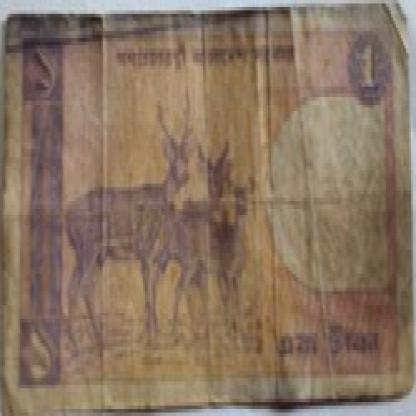One Taka: (276, 319, 383, 364), (22, 322, 60, 385), (25, 42, 62, 97), (359, 38, 381, 94)
